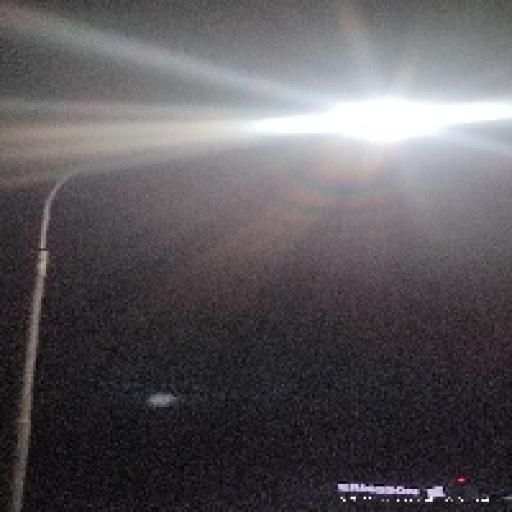Working: (260, 77, 512, 158)
